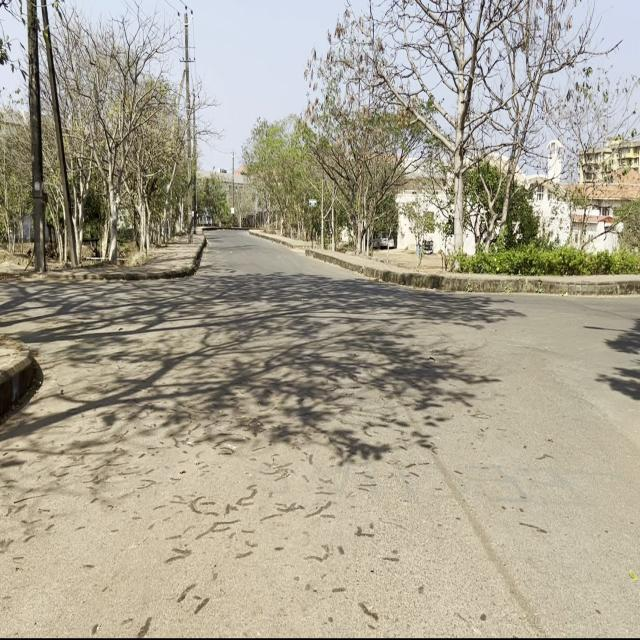Road: (2, 233, 638, 633)
